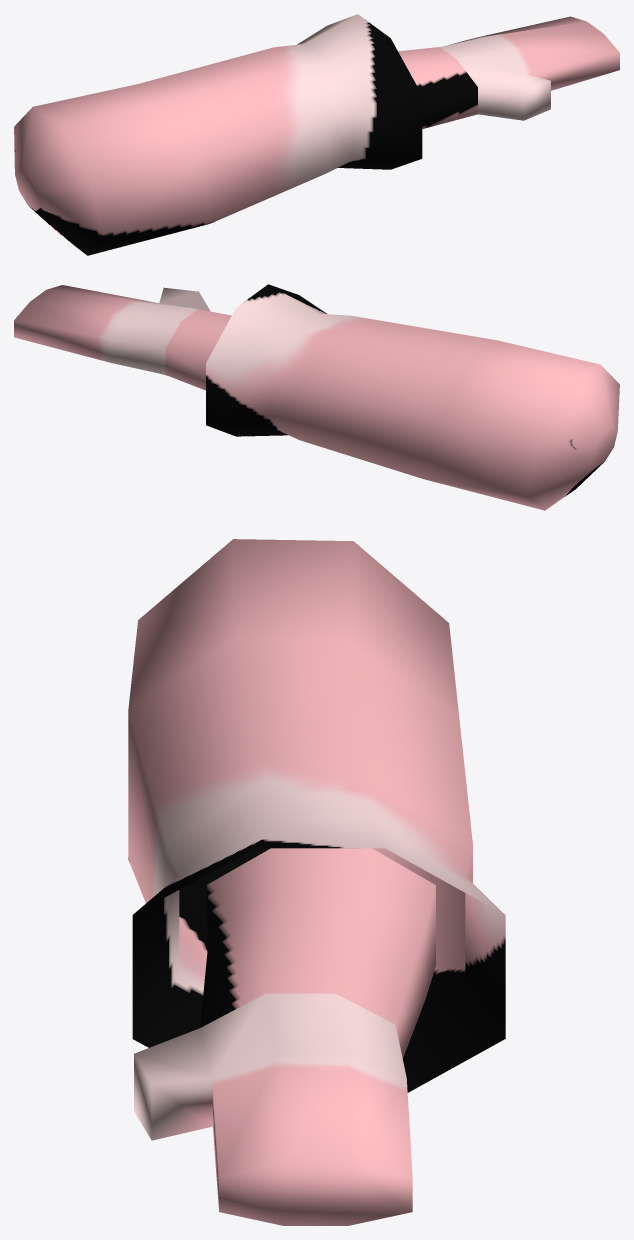
Rendered from arm_L.obj.
The picture shows the model from 3 angles, top to bottom: view 1: azimuth 30°, elevation 25°; view 2: azimuth 150°, elevation 25°; view 3: azimuth 270°, elevation 25°; orthographic projection. The views are drawn at different scales.
Visible parts, largest first — view 1: arm_L; view 2: arm_L; view 3: arm_L.
Boxes of the visible parts, x1,y1,x2,y2 form: arm_L: (14,14,619,255); arm_L: (14,284,619,510); arm_L: (128,539,505,1225).
Bounding box in the file's own units: 0.7903 × 0.181 × 0.2289.
